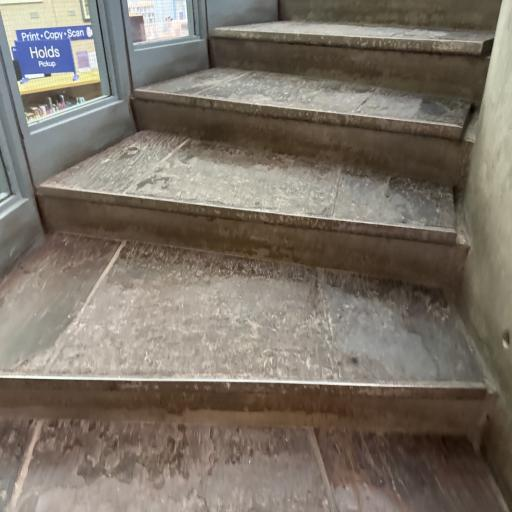Stairs: (0, 0, 506, 512), (0, 208, 492, 439), (38, 131, 468, 288), (0, 415, 506, 512), (133, 68, 472, 185), (210, 20, 494, 104), (278, 0, 501, 31)
